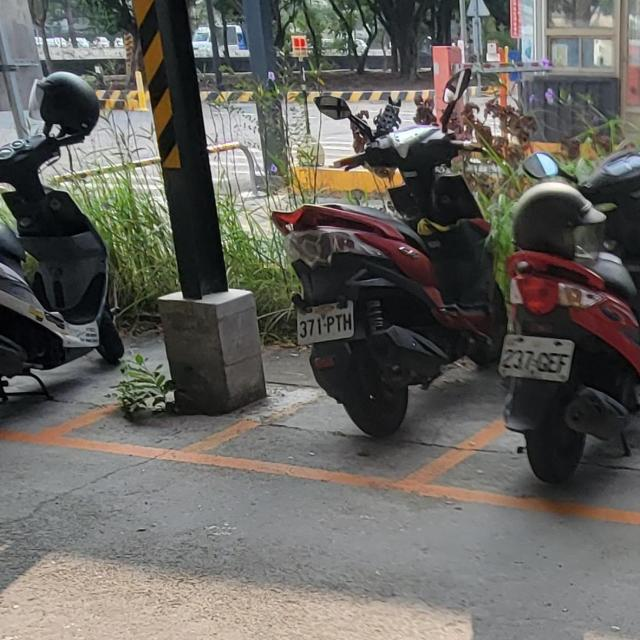W: (494, 330, 576, 384), (289, 296, 361, 348)
